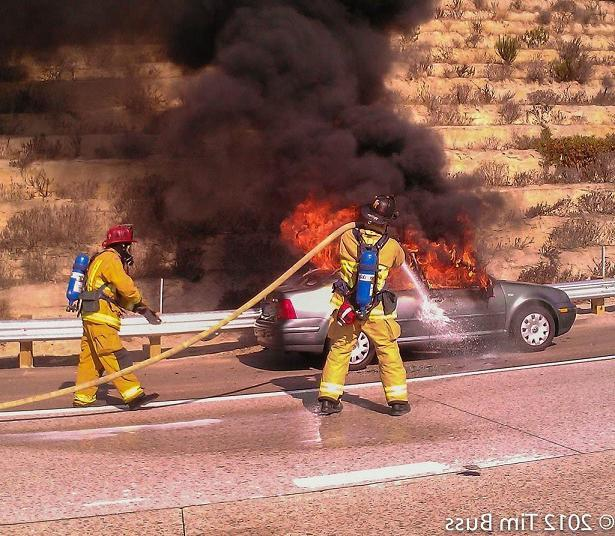Fire: (277, 193, 503, 300)
